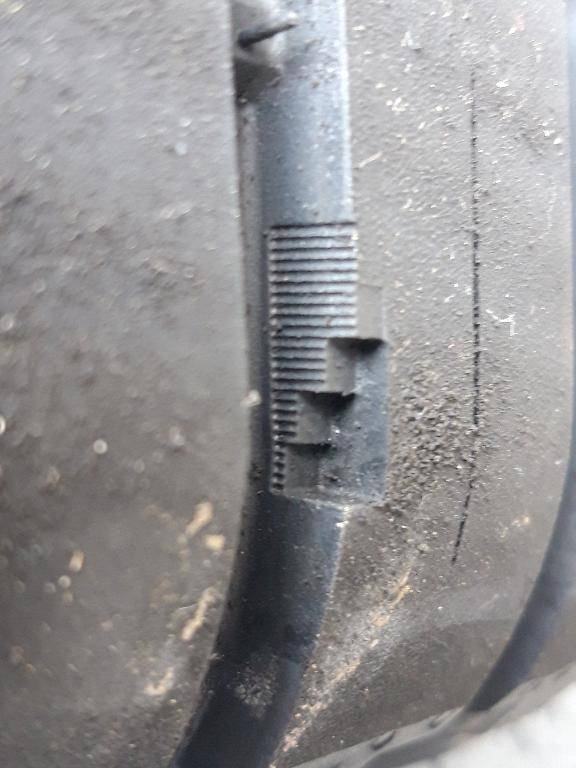temoin:75: (258, 274, 402, 519)
